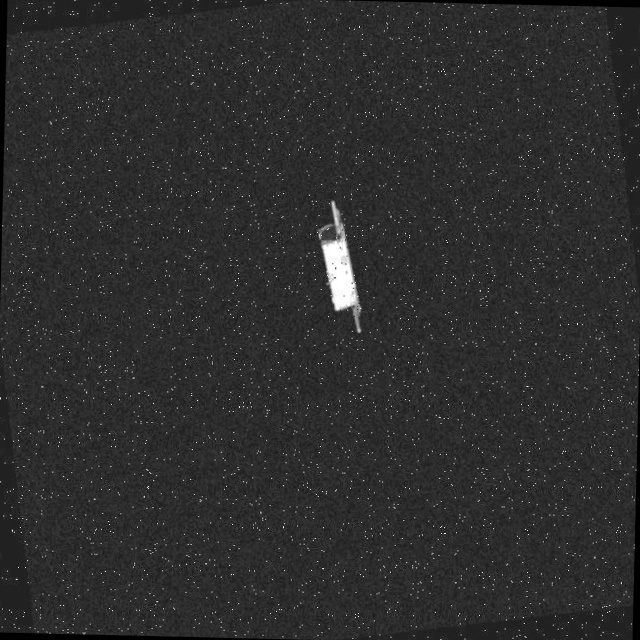medium_debris: (311, 192, 379, 351)
